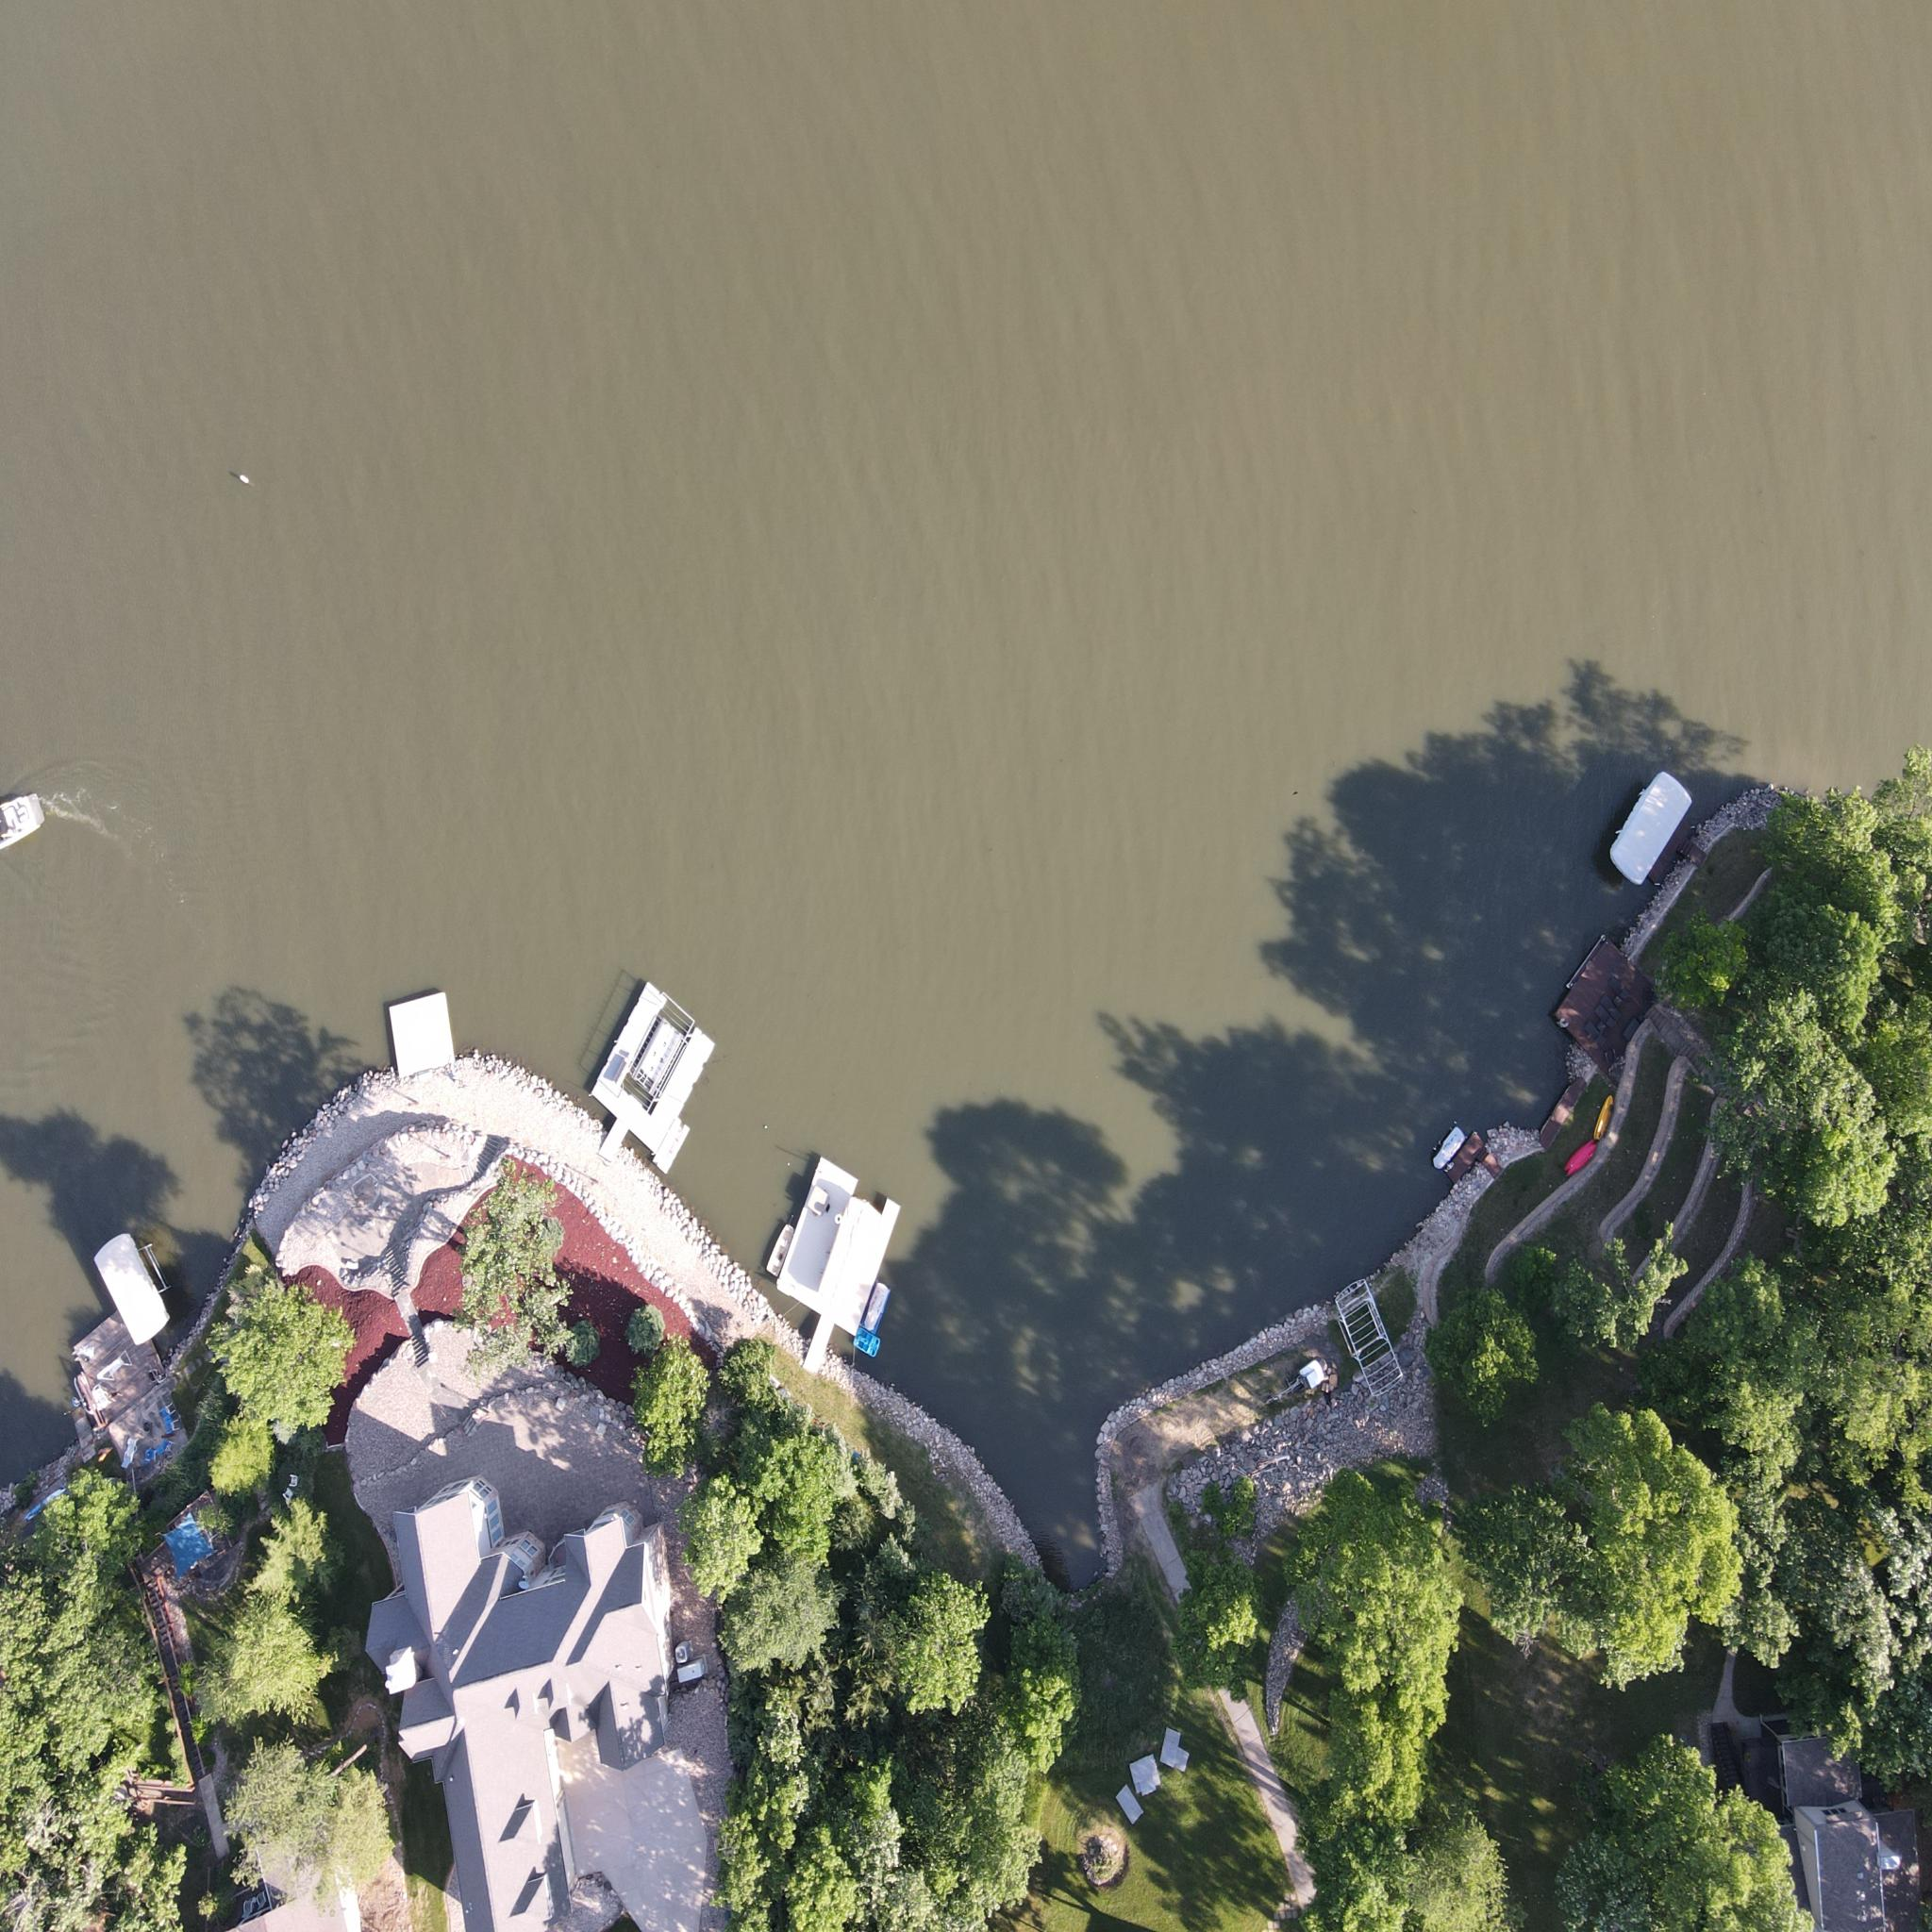boat: (0, 789, 55, 847)
dock: (773, 1148, 902, 1380), (580, 970, 708, 1173), (50, 1322, 184, 1463), (1557, 934, 1644, 1076), (384, 982, 465, 1088), (1433, 1125, 1483, 1180)
jetski: (761, 1217, 798, 1284), (1424, 1123, 1472, 1169), (858, 1281, 890, 1339)
lift: (1585, 754, 1700, 893), (94, 1223, 188, 1359), (1332, 1279, 1422, 1405), (614, 996, 695, 1118), (810, 1194, 881, 1322)
